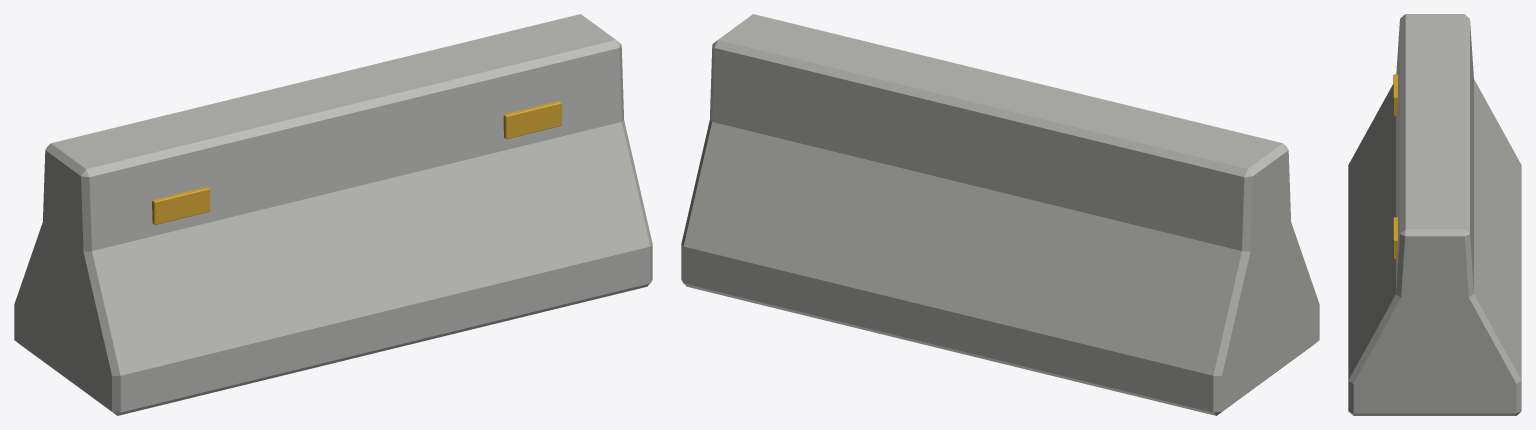
Rendered from BH_Barrier_Concrete.glb.
3 views of the same model, side by side, from view 1: azimuth 30°, elevation 25°; view 2: azimuth 150°, elevation 25°; view 3: azimuth 270°, elevation 25° (orthographic). The views are drawn at different scales.
Parts seen in each view (by area): view 1: BH_Barrier_Concrete_RenderMesh; view 2: BH_Barrier_Concrete_RenderMesh; view 3: BH_Barrier_Concrete_RenderMesh.
Part boxes in pixels (left/top/right/bottom): BH_Barrier_Concrete_RenderMesh: left=14, top=14, right=652, bottom=415; BH_Barrier_Concrete_RenderMesh: left=681, top=14, right=1319, bottom=415; BH_Barrier_Concrete_RenderMesh: left=1348, top=14, right=1521, bottom=415.
Size of what is drawn, in the model's own units: 2.4 by 0.95 by 0.8.
